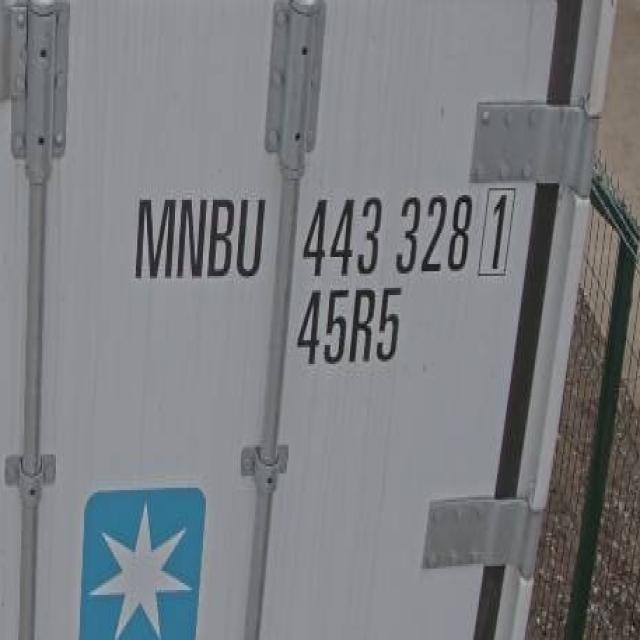dv: (478, 182, 516, 280)
owner: (130, 182, 265, 292)
serial: (300, 184, 474, 284)
size: (292, 285, 412, 376)
